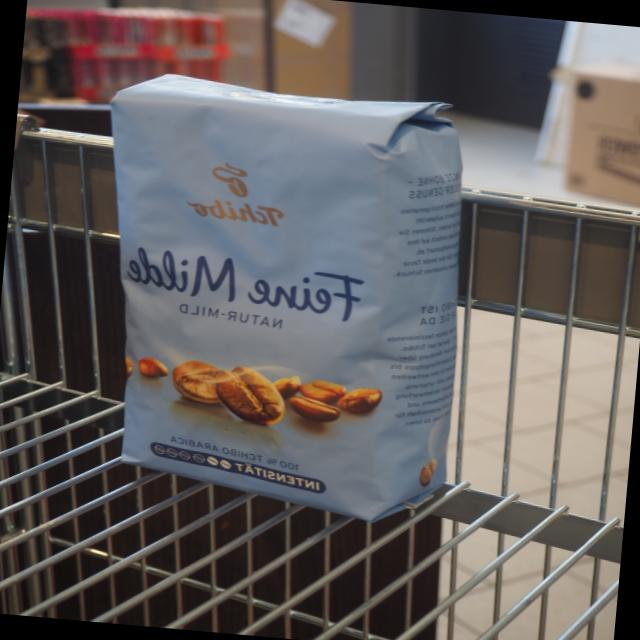FM Bohne: (70, 62, 492, 534)
